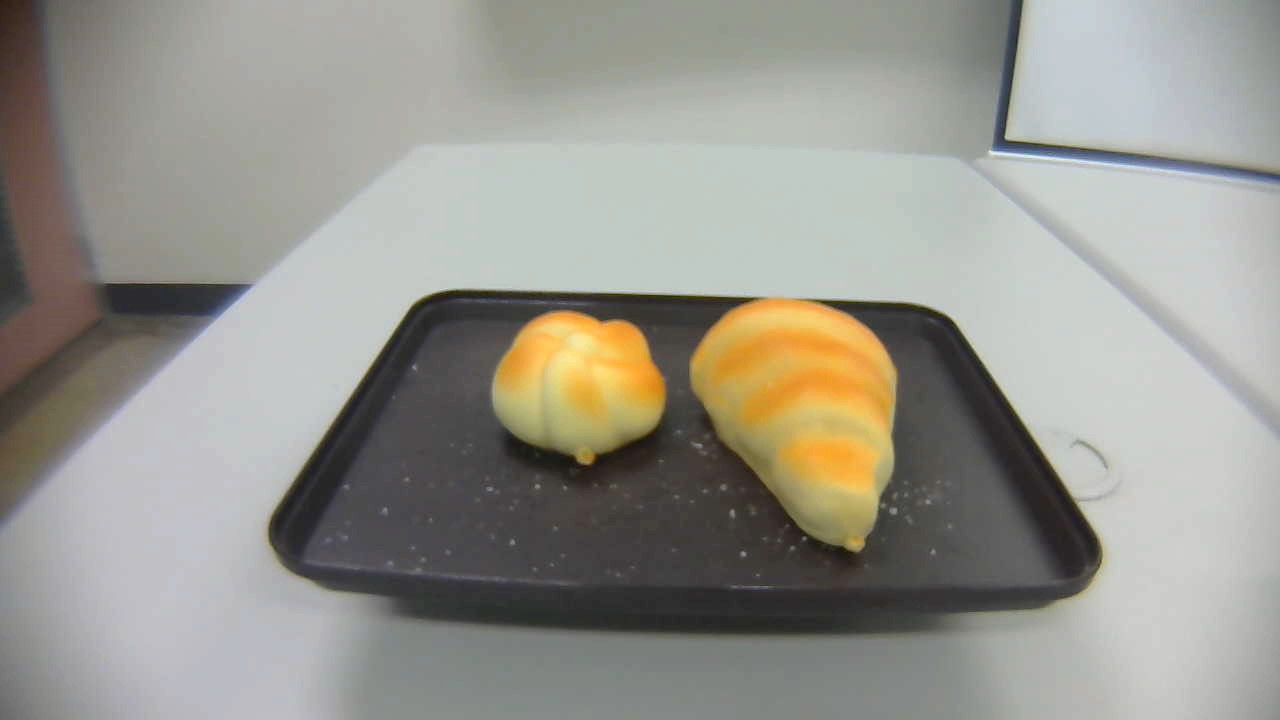croissant: (687, 299, 899, 557)
twist bread: (490, 311, 665, 466)
